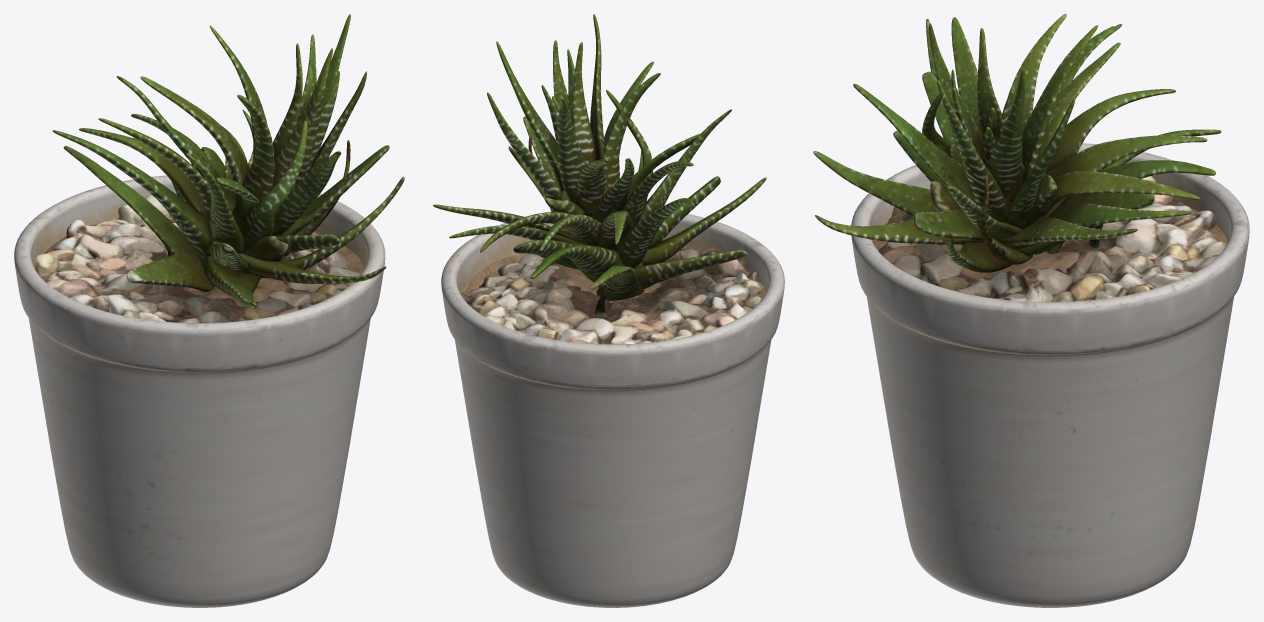
File: potted_plant_04.glb
3 views of the same model, side by side, from view 1: azimuth 30°, elevation 25°; view 2: azimuth 150°, elevation 25°; view 3: azimuth 270°, elevation 25° (orthographic). The views are drawn at different scales.
Visible parts, largest first — view 1: potted_plant_04; view 2: potted_plant_04; view 3: potted_plant_04.
Part boxes in pixels (<box>): potted_plant_04: <box>14,14,404,607</box>; potted_plant_04: <box>433,14,784,607</box>; potted_plant_04: <box>813,14,1249,607</box>.
Size of what is drawn, in the model's own units: 0.1679 by 0.2666 by 0.1838.
1 material, 1 textured.
